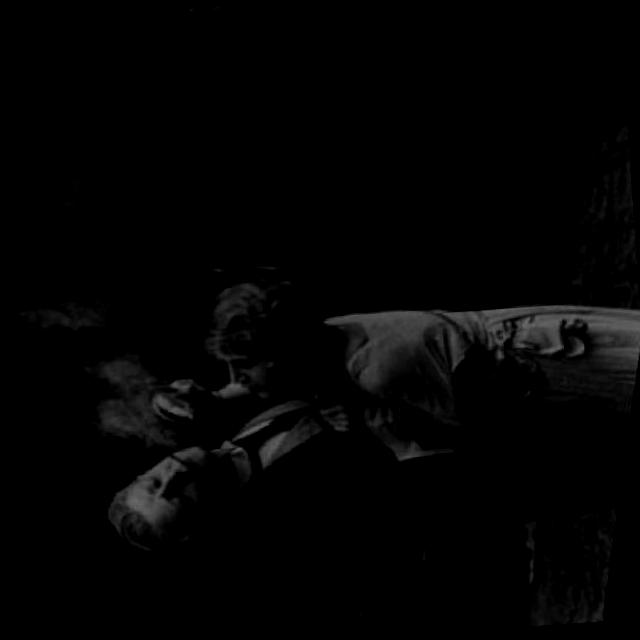smoke: (160, 445, 189, 465)
